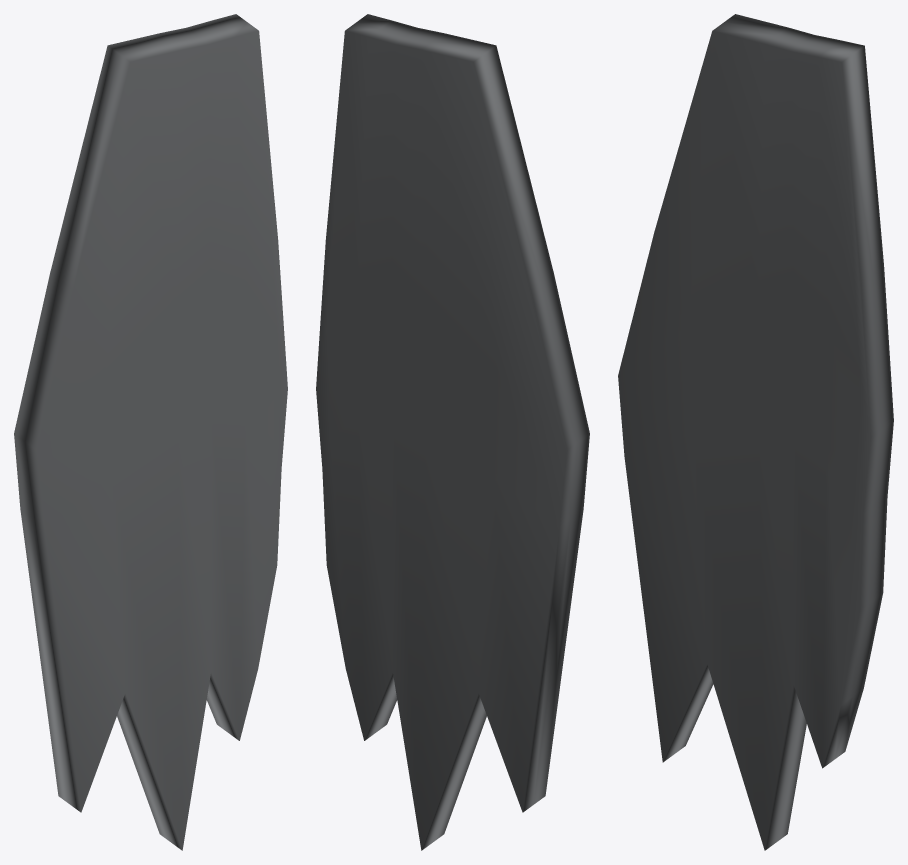
File: OrganoCabezaTexturizado.fbx
3 renders of one model, left to right at view 1: azimuth 30°, elevation 25°; view 2: azimuth 150°, elevation 25°; view 3: azimuth 330°, elevation 25°, orthographic.
Parts seen in each view (by area): view 1: OrganoCabeza; view 2: OrganoCabeza; view 3: OrganoCabeza.
Part boxes in pixels (x1,y1,x2,y2): OrganoCabeza: (14,14,287,850); OrganoCabeza: (316,14,589,850); OrganoCabeza: (618,14,893,850).
Size of the model in its own units: 0.2652 by 0.809 by 0.0441.
1 material, 1 textured.
